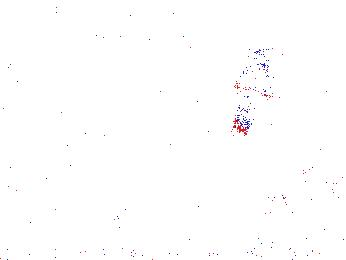flame jellyfish: (64, 172, 150, 229), (231, 56, 280, 133), (269, 165, 338, 215)
